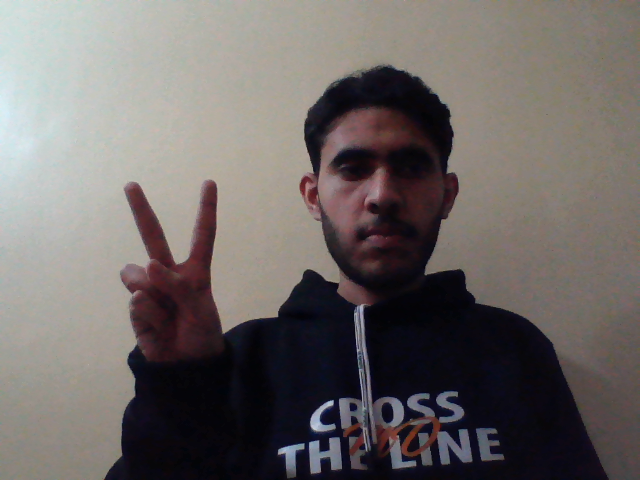V: (113, 174, 234, 391)
